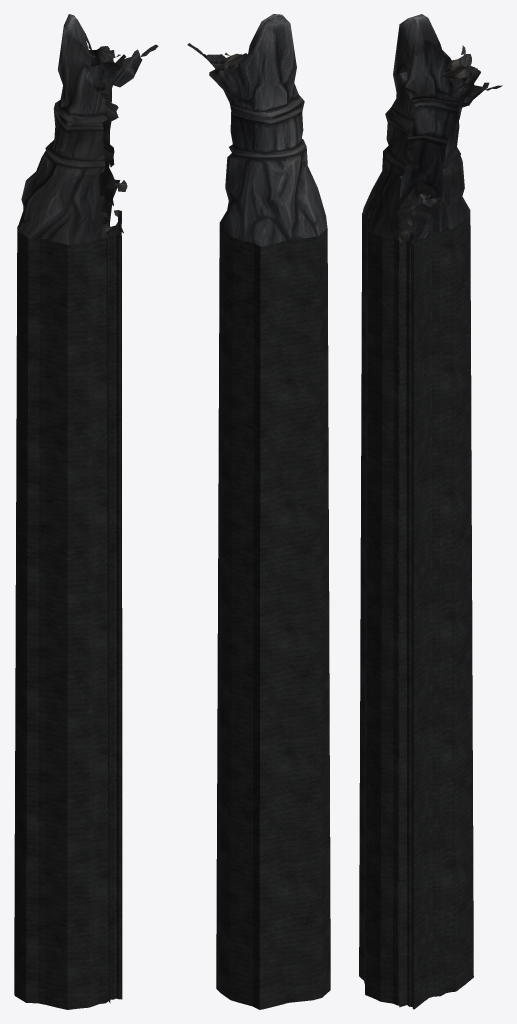
Rendered from horaro_rock_pillar_5.glb.
The picture shows the model from 3 angles, left to right: view 1: azimuth 30°, elevation 25°; view 2: azimuth 150°, elevation 25°; view 3: azimuth 330°, elevation 25°; orthographic projection.
Parts seen in each view (by area): view 1: horaro_rock_pillar_5_L1_foundation, horaro_rock_pillar_5; view 2: horaro_rock_pillar_5_L1_foundation, horaro_rock_pillar_5; view 3: horaro_rock_pillar_5_L1_foundation, horaro_rock_pillar_5.
Part boxes in pixels (<box>): horaro_rock_pillar_5_L1_foundation: <box>14,211,122,1009</box>; horaro_rock_pillar_5: <box>17,14,158,244</box>; horaro_rock_pillar_5_L1_foundation: <box>216,227,330,1009</box>; horaro_rock_pillar_5: <box>187,14,327,246</box>; horaro_rock_pillar_5_L1_foundation: <box>359,196,473,1009</box>; horaro_rock_pillar_5: <box>362,14,502,245</box>.
Size of the model in its own units: 2.34 by 15.62 by 1.79.
2 materials, 2 textured.
